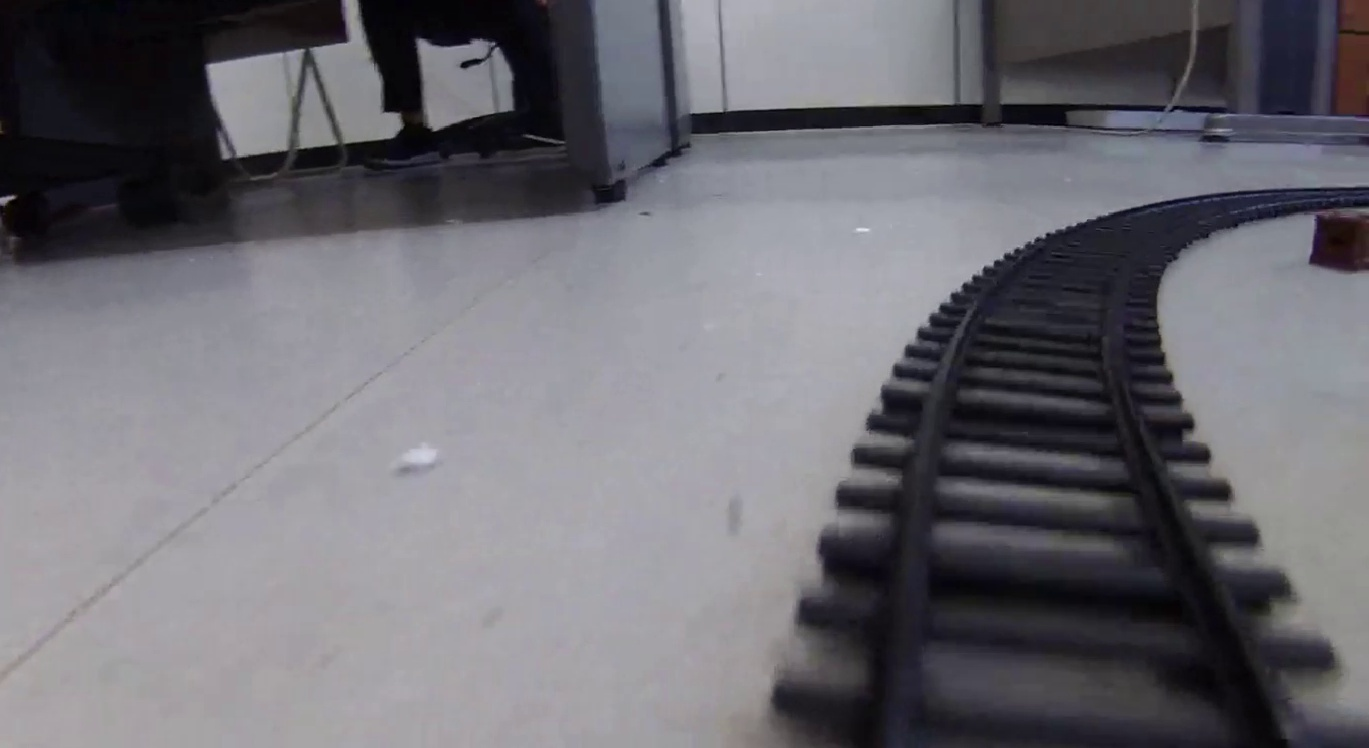box: (1311, 204, 1369, 271)
